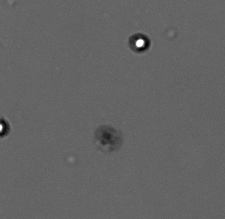Dead Cell: (95, 128, 116, 149)
Living Cell: (129, 33, 150, 53), (1, 119, 10, 136)
